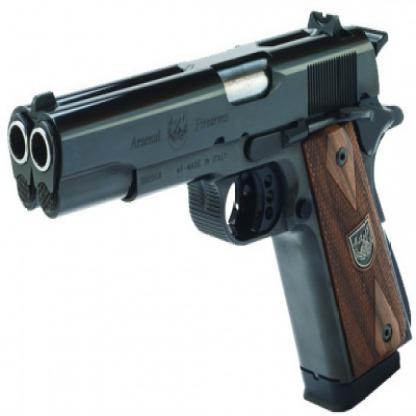Guns: (6, 7, 412, 412)
